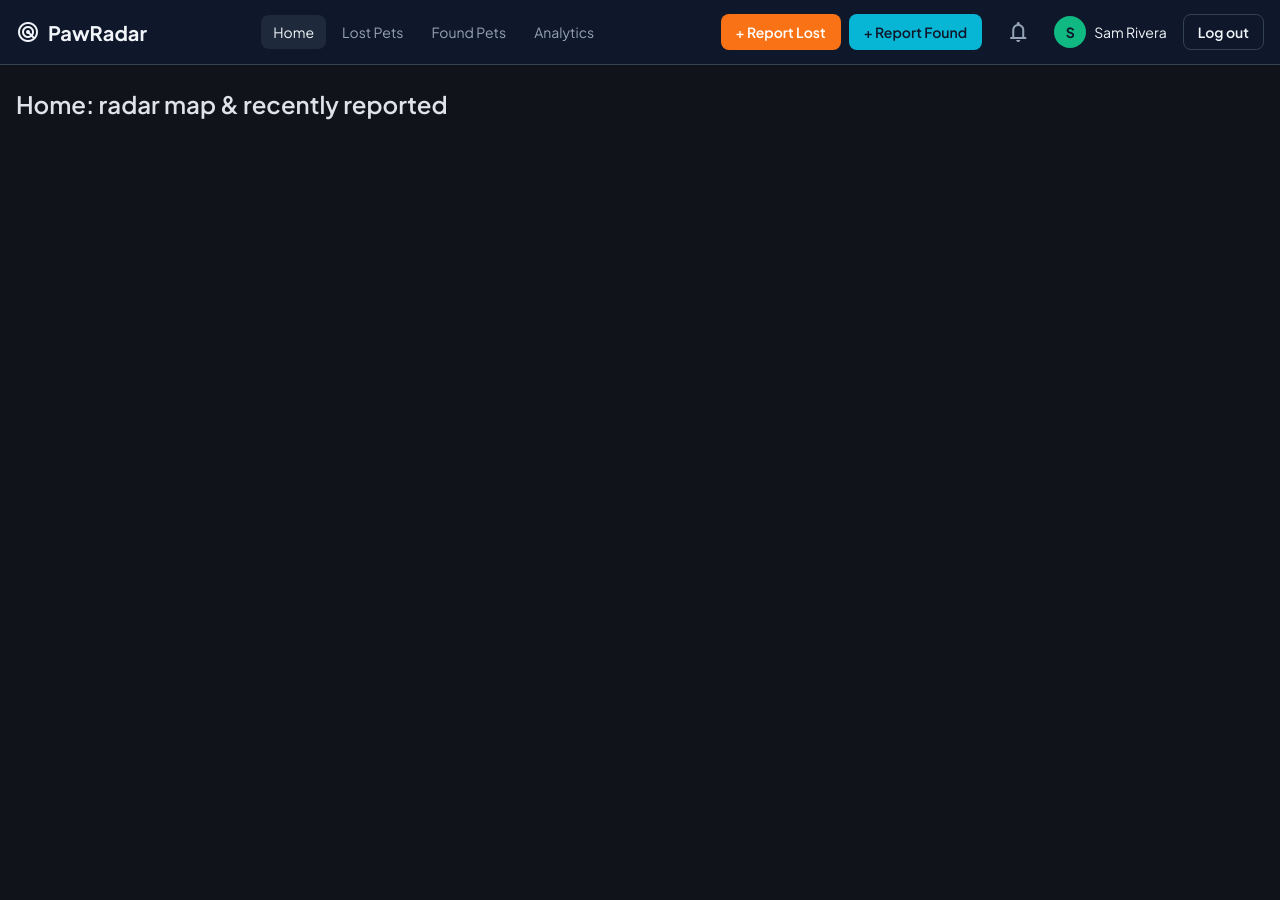
LogoutButton › 2. signs out the User and redirects to the Login Page
Click the button "Log out".
click(1223, 32)  # box [1183, 14, 1264, 50]
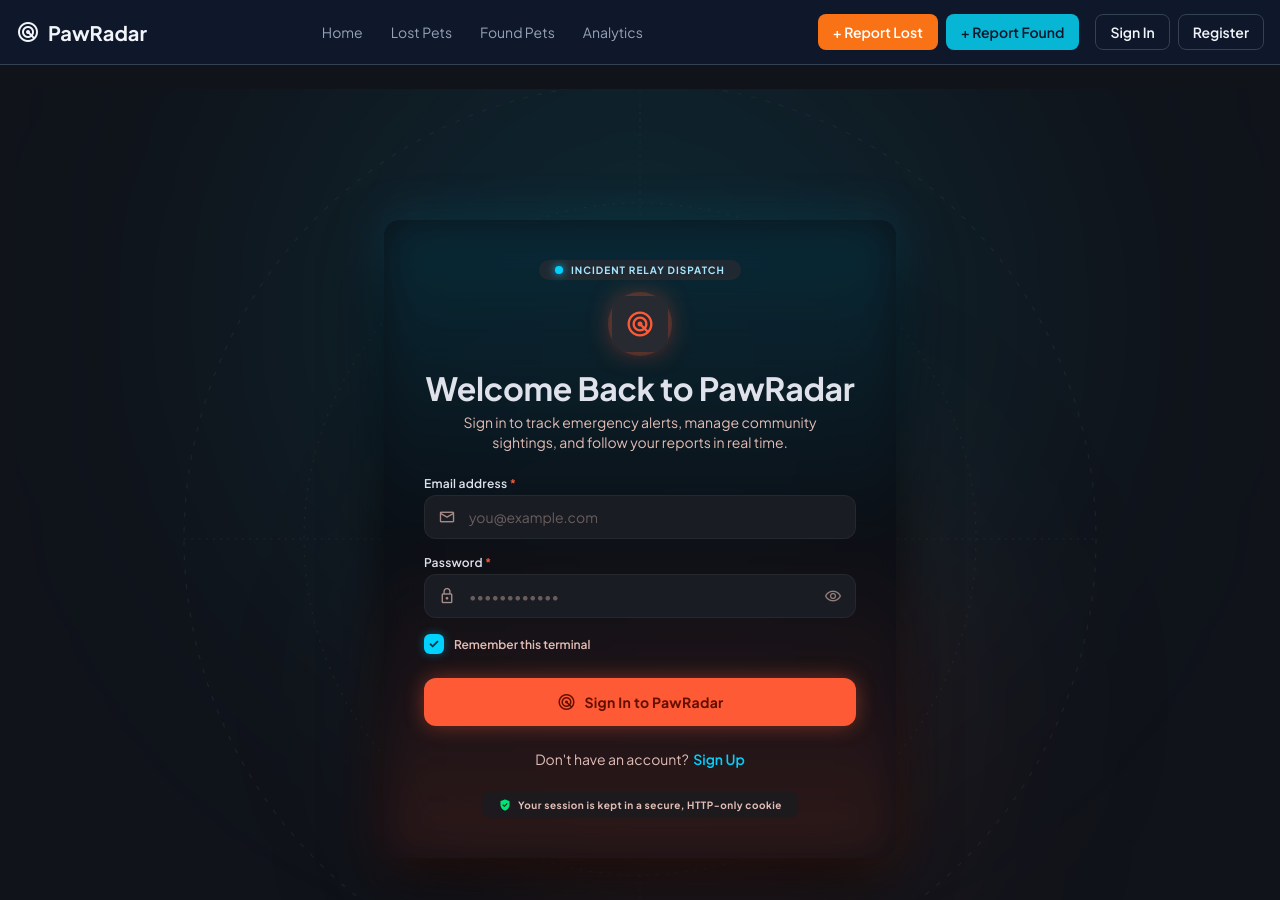
Now the link "Sign In" is shown, box [1095, 14, 1170, 50]
Now the heading "Welcome Back to PawRadar" is shown, box [426, 368, 854, 408]
